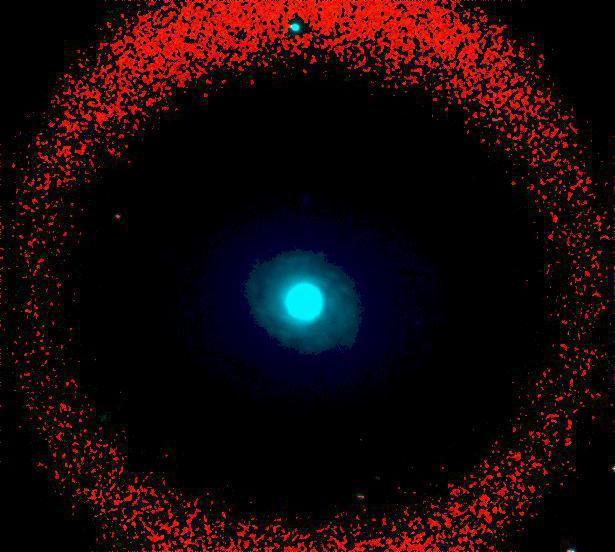star: (348, 427, 378, 457)
